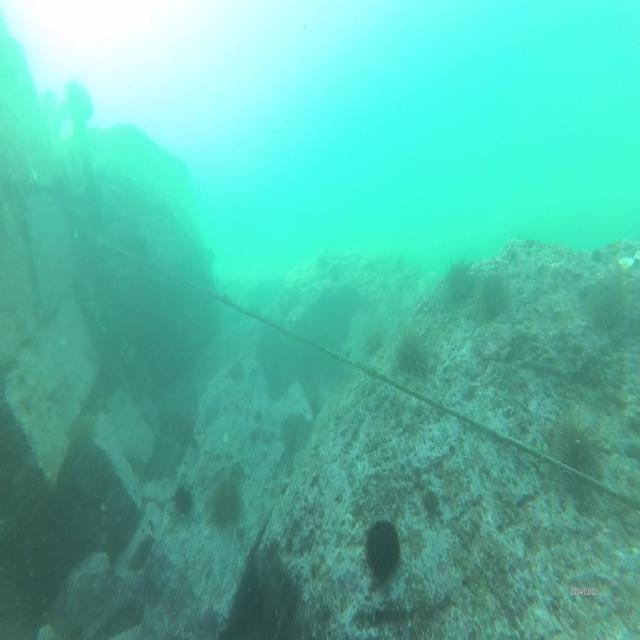echinus: (554, 412, 604, 480), (366, 519, 402, 581), (396, 328, 434, 384), (210, 479, 243, 530), (443, 256, 474, 304), (480, 275, 509, 321), (172, 482, 194, 516)
